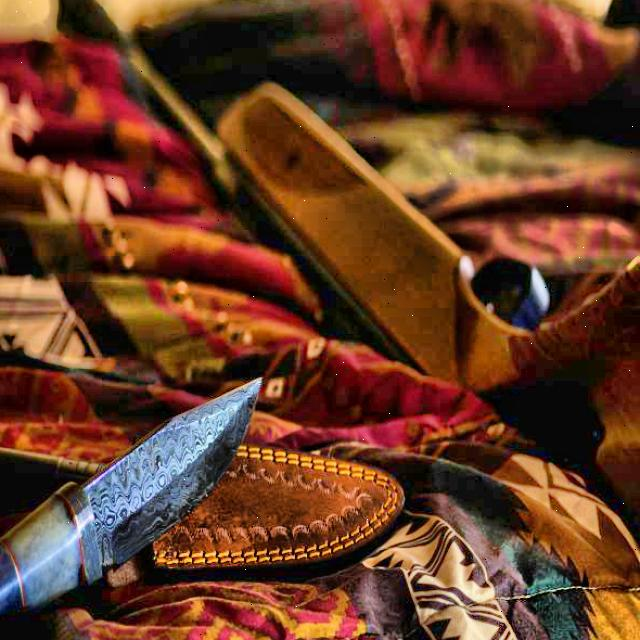knife: (0, 369, 269, 640)
